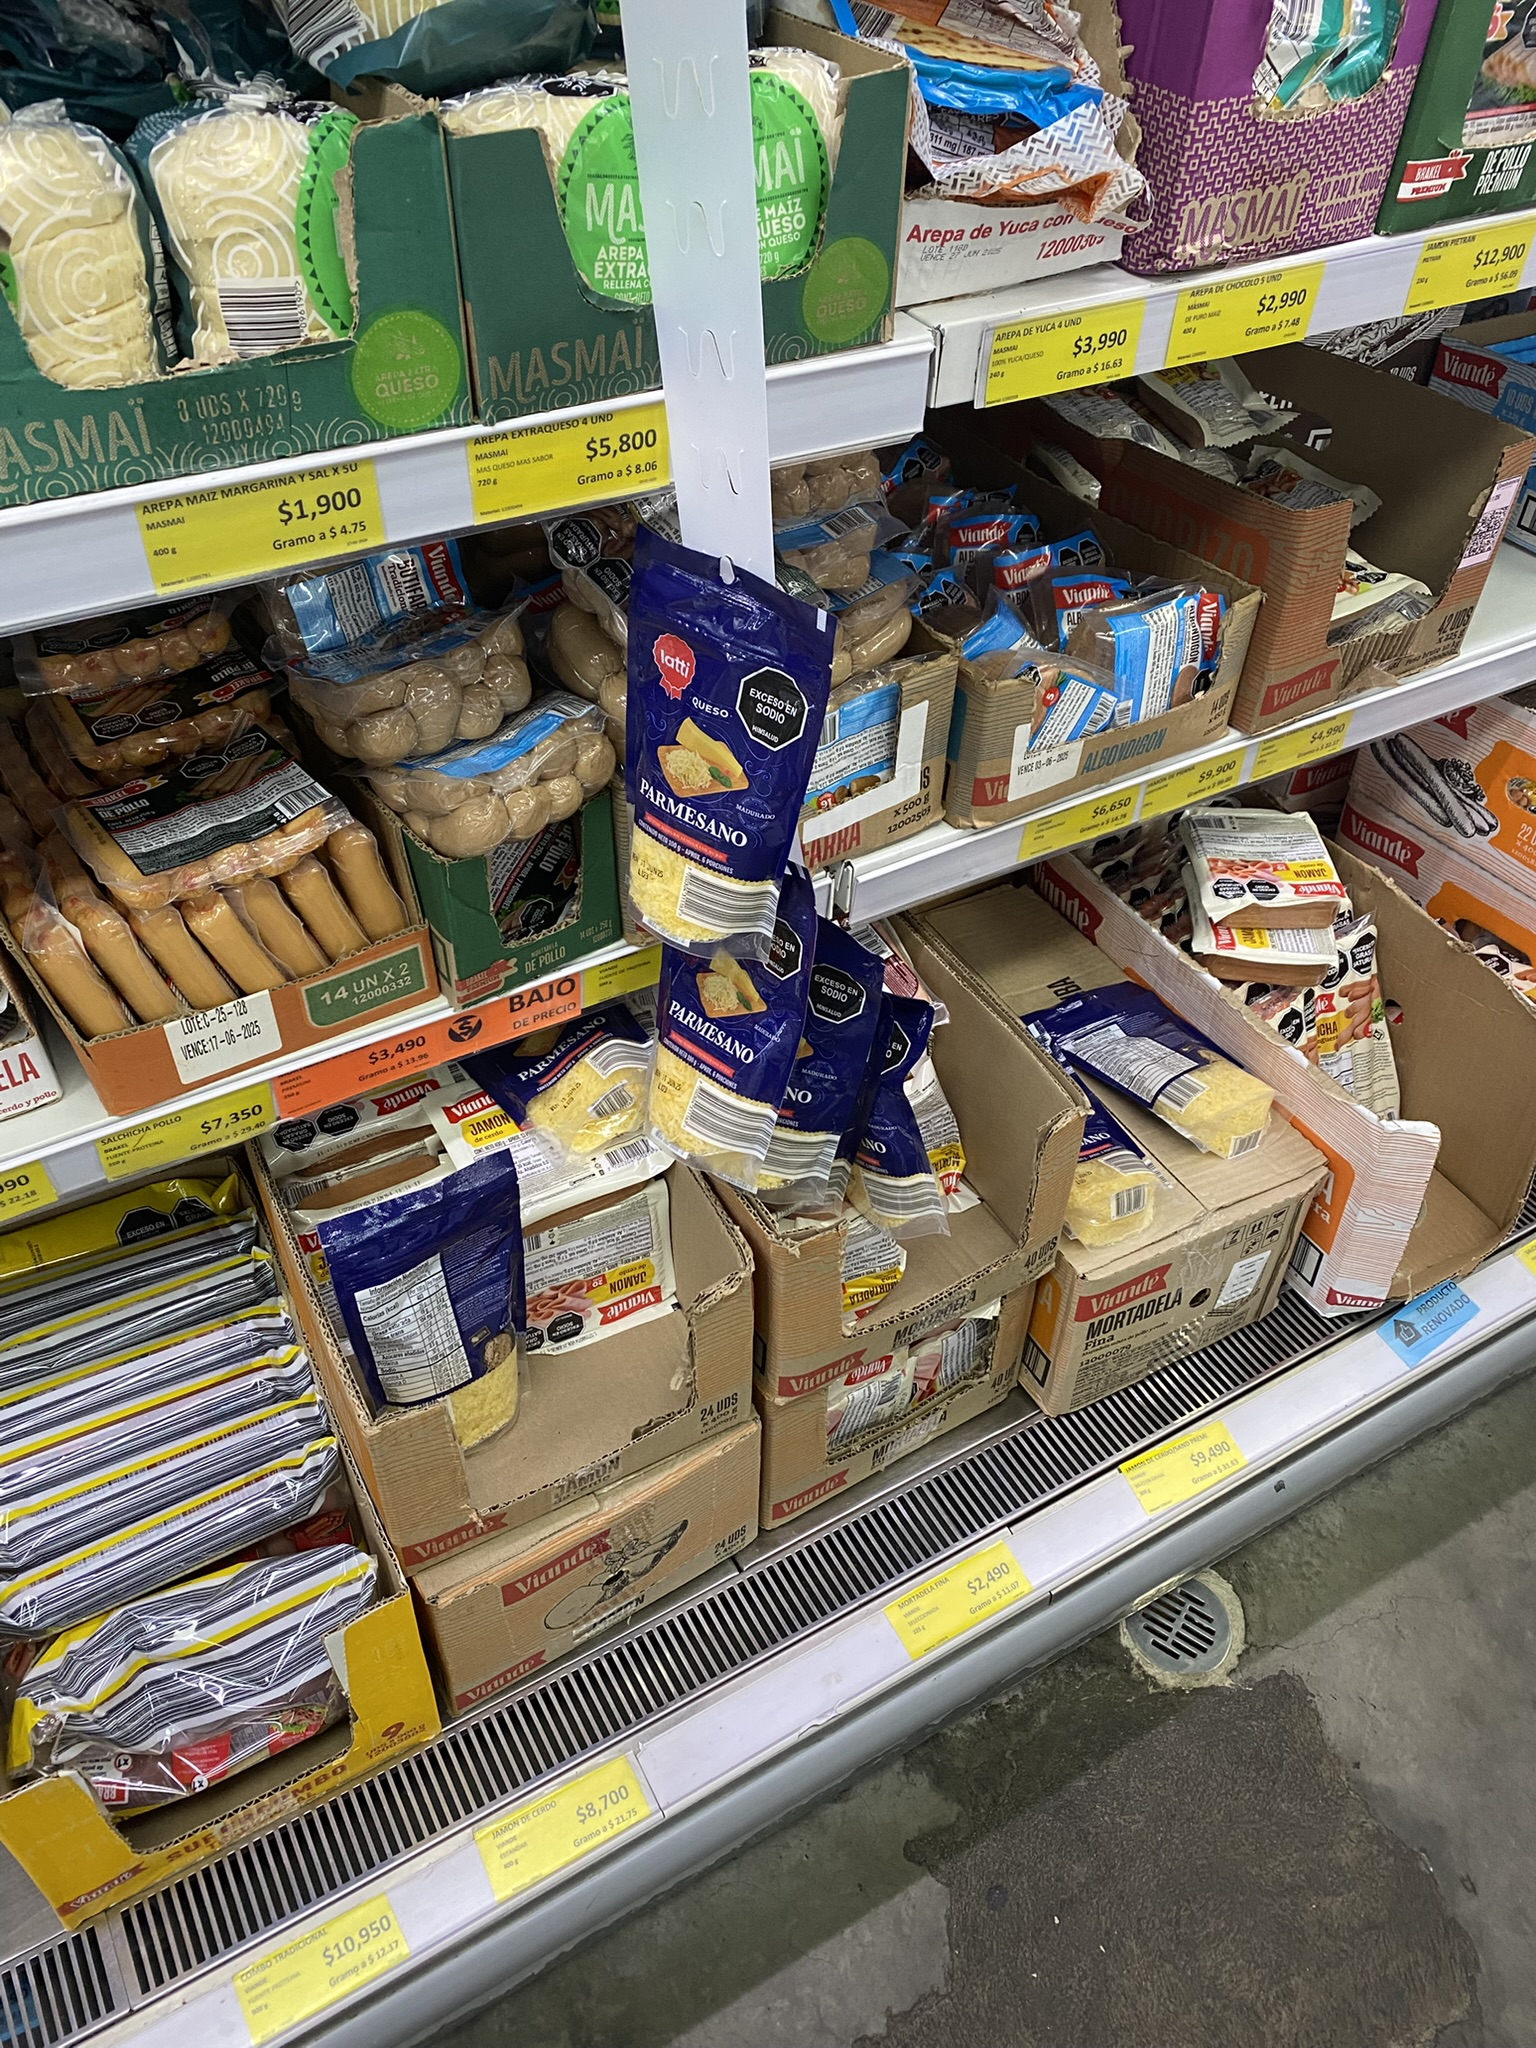Queso Parmesano: (617, 548, 835, 922), (326, 1171, 533, 1449), (1015, 991, 1280, 1150), (654, 890, 779, 1190), (776, 919, 880, 1192), (848, 988, 951, 1243), (999, 1062, 1158, 1211)
